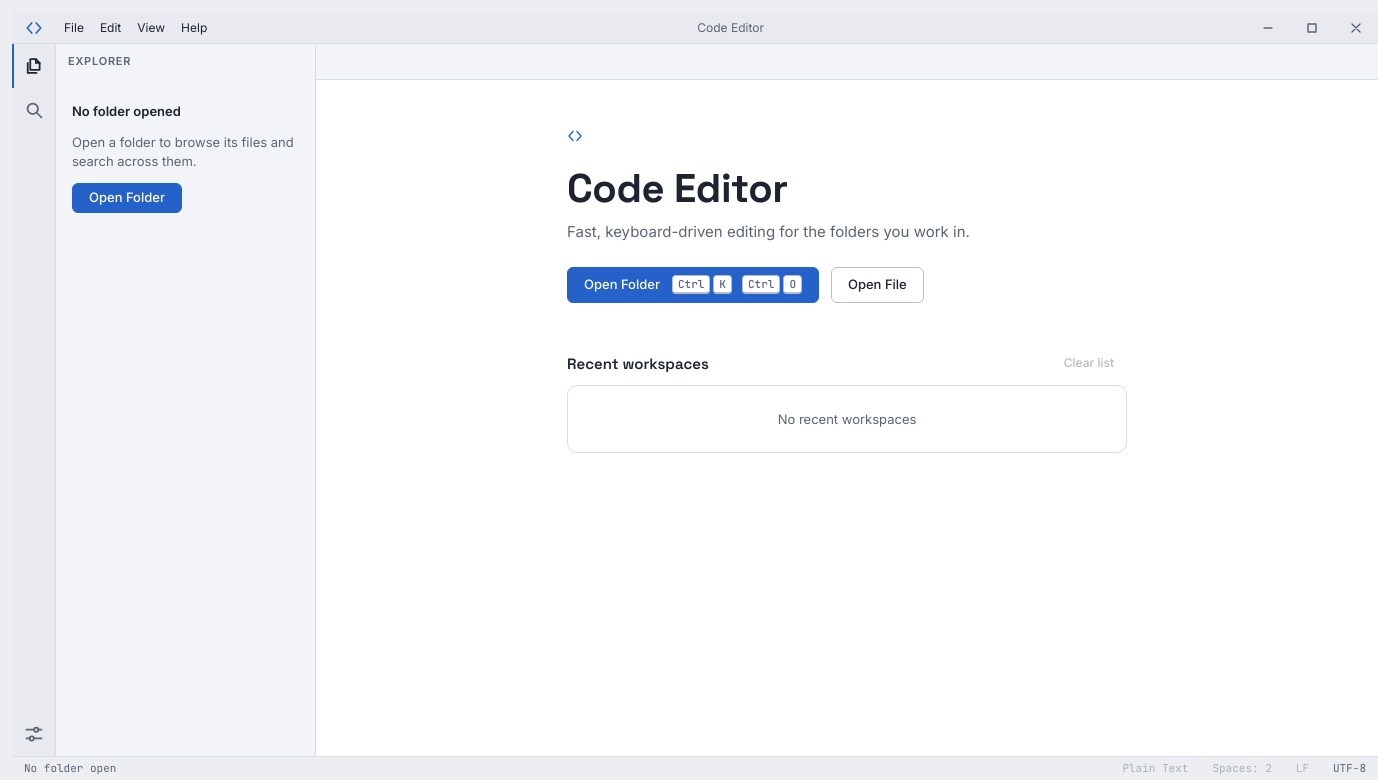
Test: in-page menu bar › closes on Escape and returns focus to the menu button
The image size is (1378, 780).
Click the button "View" at [151, 28], box [129,14,173,40]
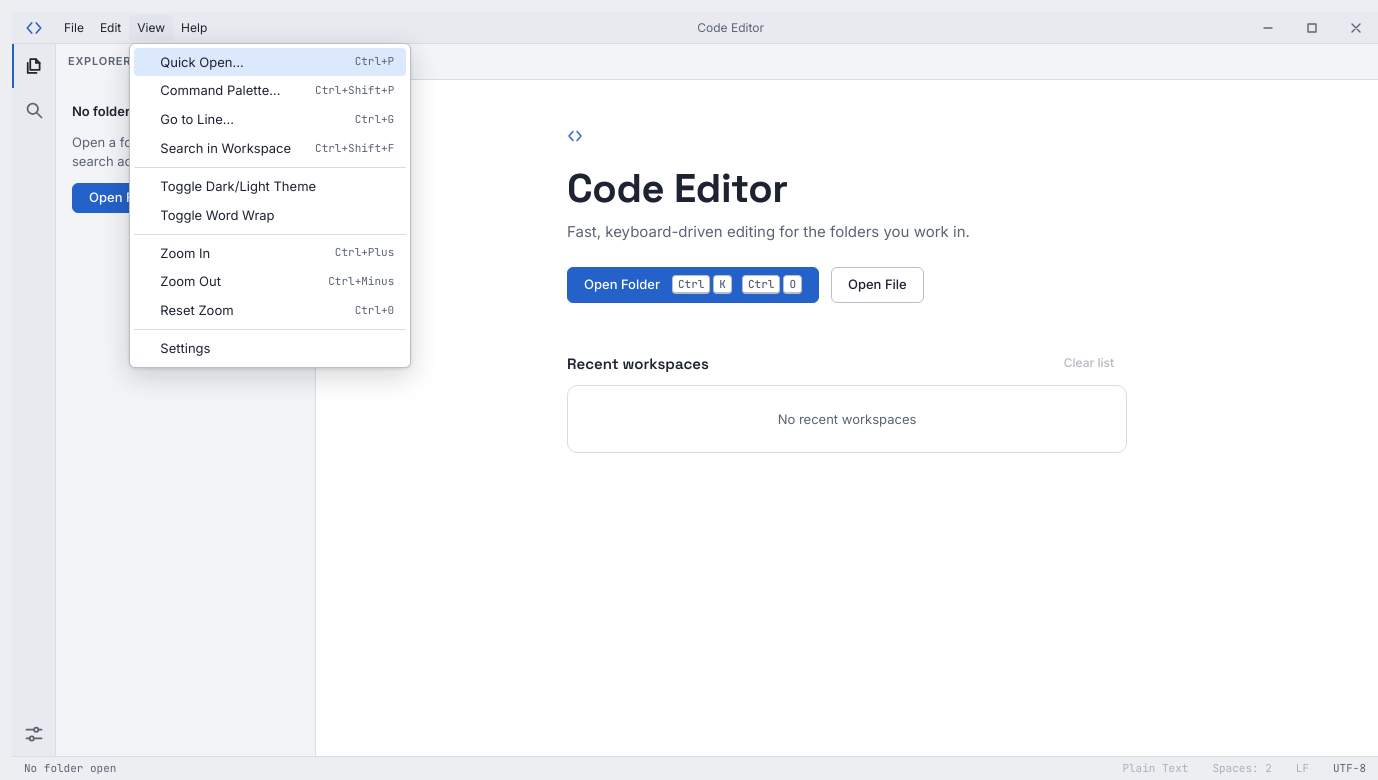
Press Escape in the menu named "View", box [129,42,411,368]
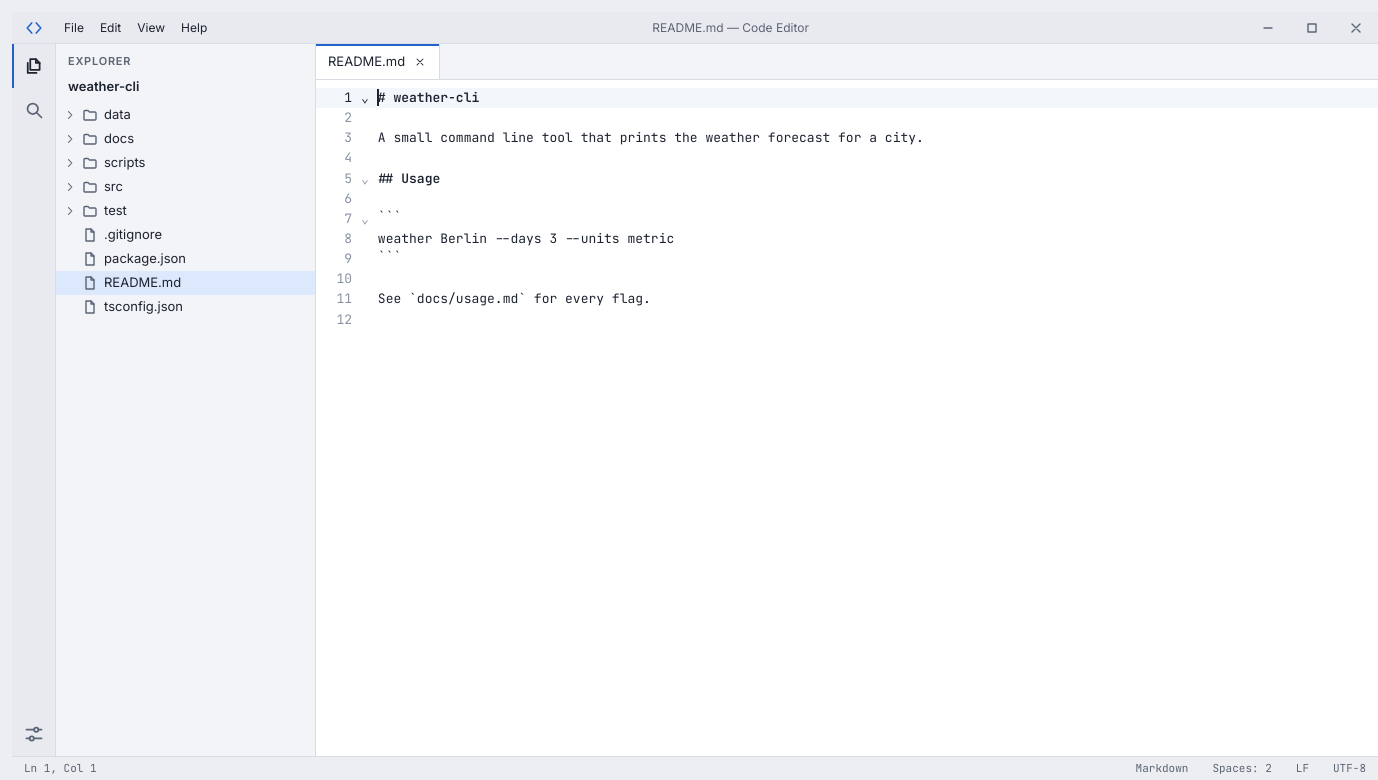
Result: the menu is gone
